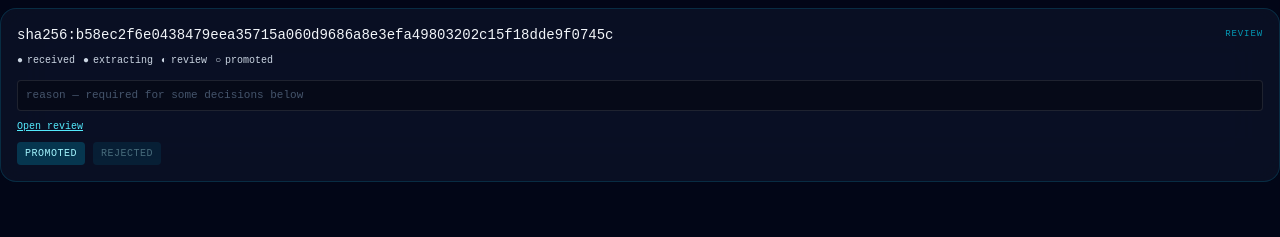
Test case: PCN26-117 — review → promoted → the answer label (built fixture, real components) › B2 — the refusal (4a): what 06b81540 will actually do › draws data-ingest-act-refusal="promotion_payload_invalid" and the message, keeps the ladder at review, and does not resolve the task
Click the button "promoted": (51, 153) [17,142,85,164]
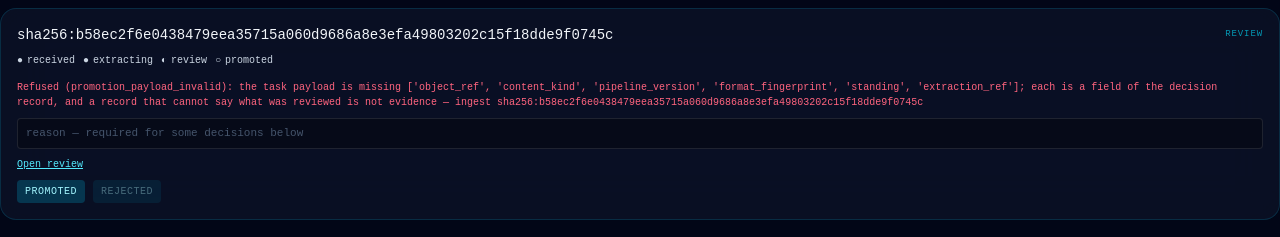
Expected: the button "promoted" is shown, [17,180,85,202]
Expected: the 2nd message shows "the task payload is missing ['object_ref', 'content_kind', 'pipeline_version', 'format_fingerprint', 'standing', 'extraction_ref']; each is a field of the decis", [17,82,1217,108]
